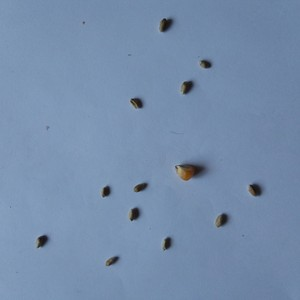maiz: (171, 162, 197, 182)
trigo: (160, 234, 174, 252), (247, 182, 262, 197), (130, 96, 144, 112), (179, 80, 193, 95), (157, 17, 169, 34), (197, 57, 211, 71), (214, 213, 228, 227), (133, 181, 147, 194), (105, 255, 119, 268), (34, 235, 46, 250), (100, 184, 111, 197), (128, 208, 139, 221)
